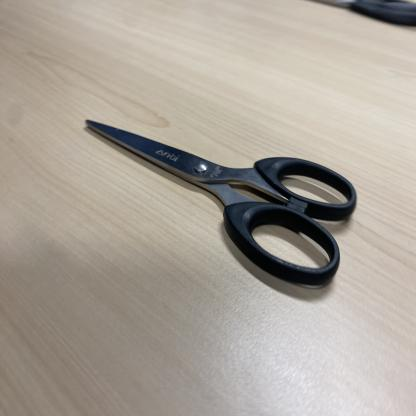scissors: (84, 118, 359, 289)
